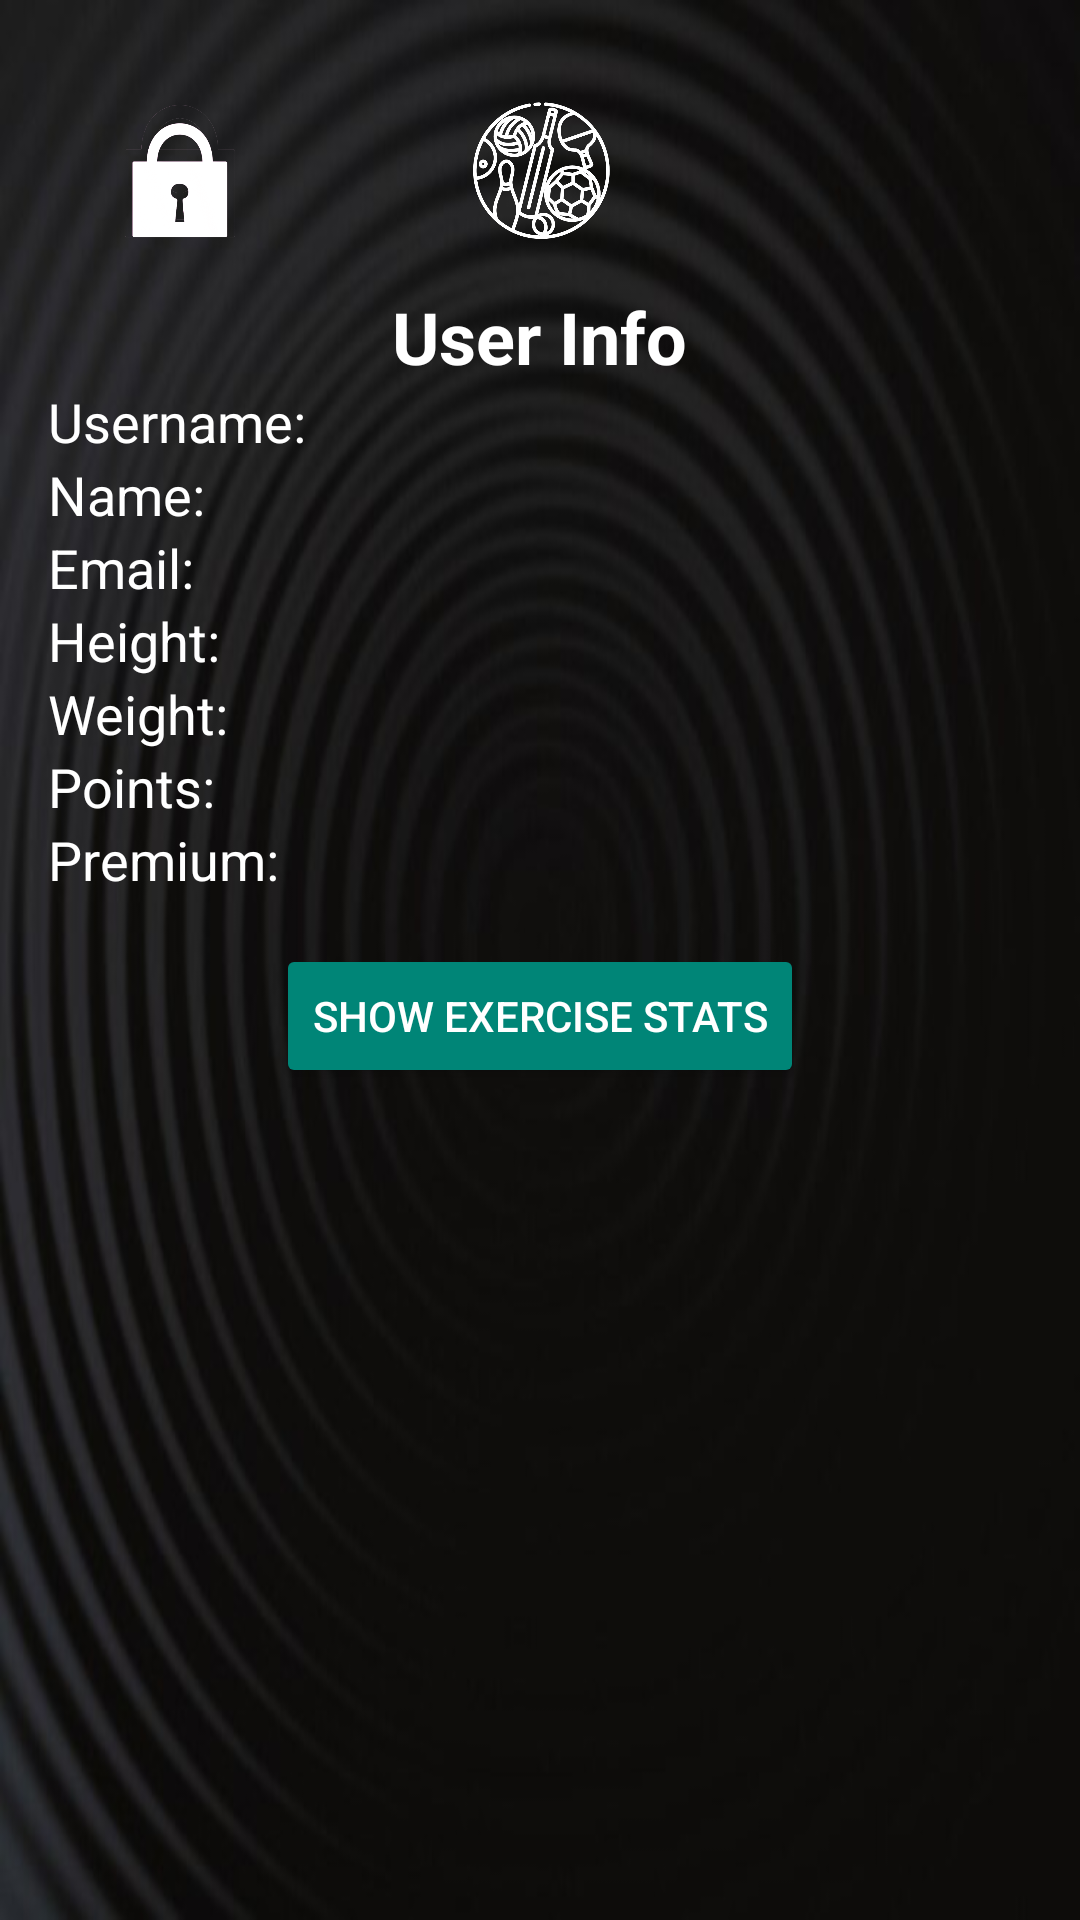

Named icons in this screenshot (1080px×1920px) and their bounding boxes, (x1, y1, x2, y2):
lock: (125, 105, 228, 237)
